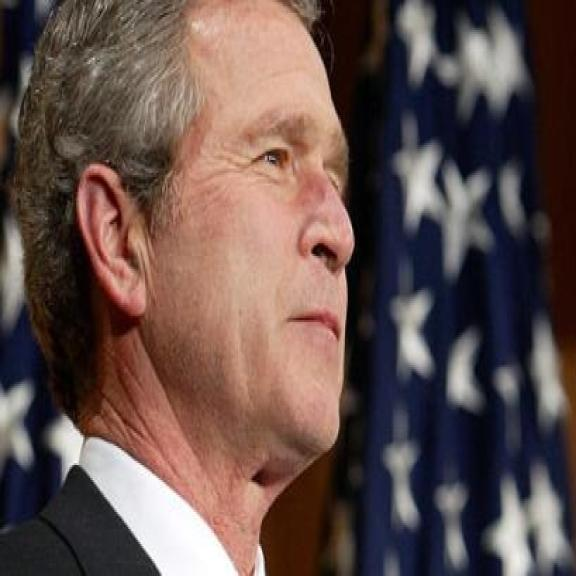face: (77, 4, 356, 506)
